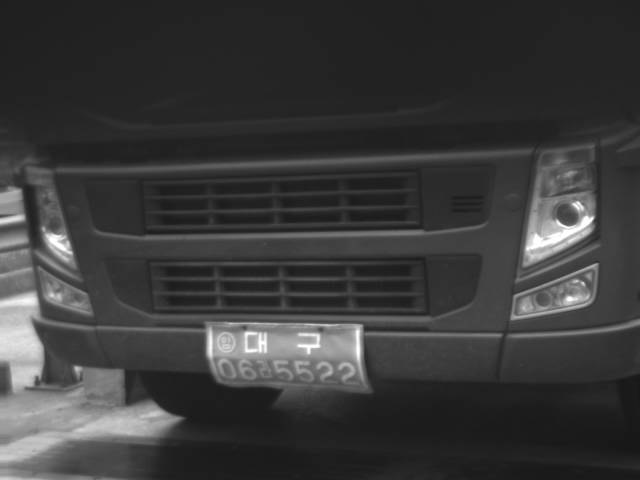car: (11, 80, 639, 426)
plate: (206, 320, 370, 393)
